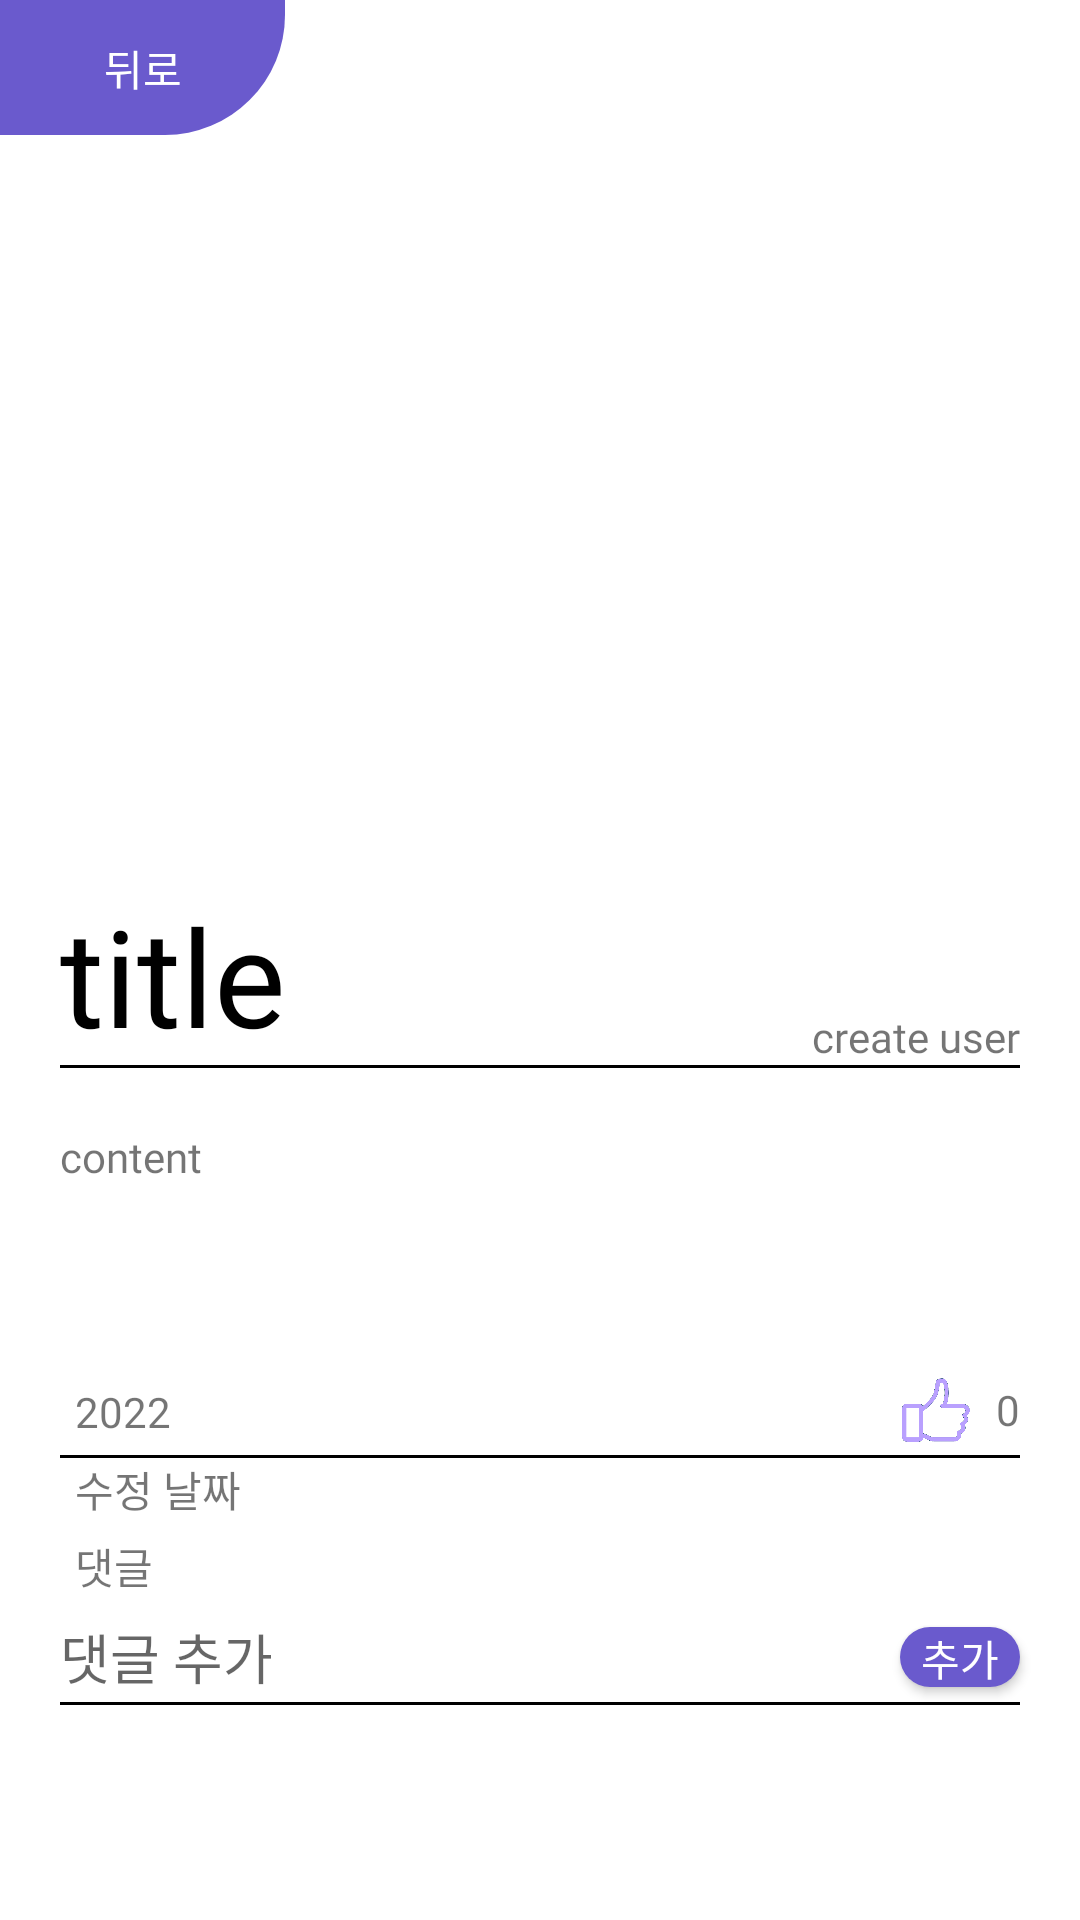

Where icons sit on this 1080px x 1920px app screen, as (x1, y1, x2, y2):
like unselect: (902, 1378, 970, 1442)
